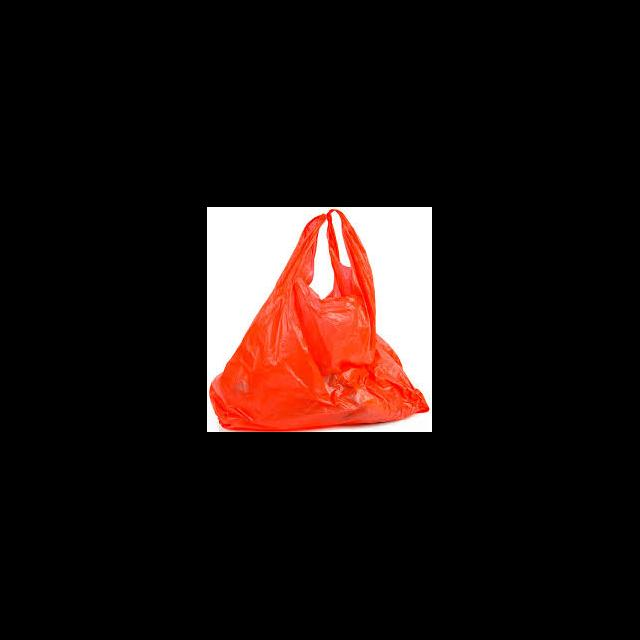plastic: (210, 208, 428, 432)
